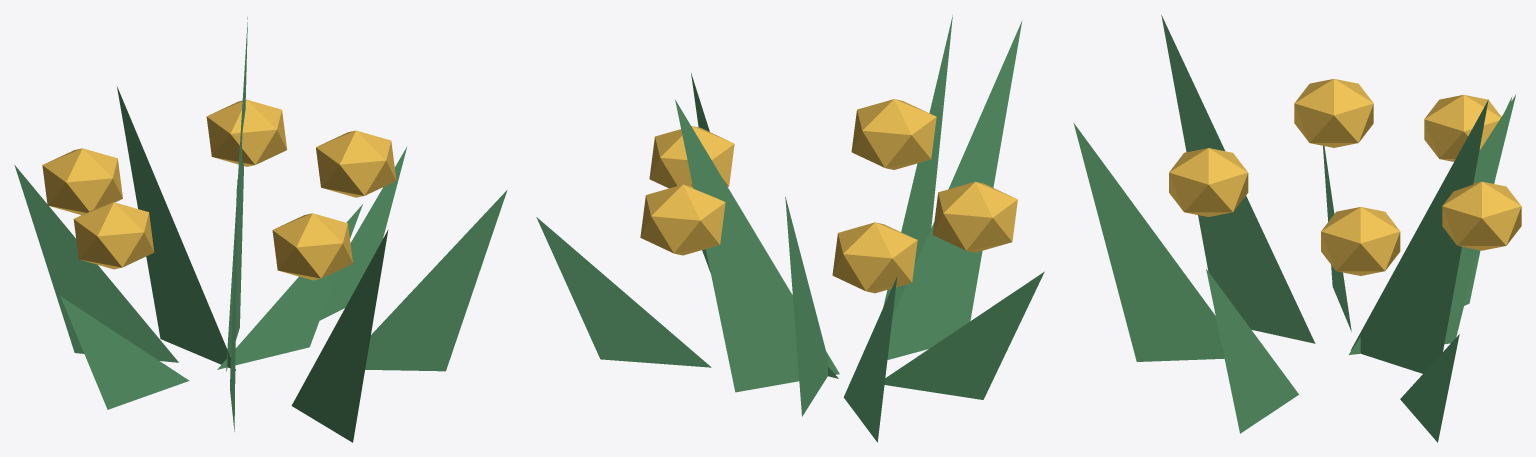
File: flowering_grass.glb
3 views of the same model, side by side, from view 1: azimuth 30°, elevation 25°; view 2: azimuth 150°, elevation 25°; view 3: azimuth 270°, elevation 25° (orthographic). The views are drawn at different scales.
Parts seen in each view (by area): view 1: Flowering Grass, Wildflower.004, Wildflower, Wildflower.002, Wildflower.001, Wildflower.003; view 2: Flowering Grass, Wildflower.004, Wildflower.002, Wildflower.001, Wildflower.003, Wildflower; view 3: Flowering Grass, Wildflower.002, Wildflower, Wildflower.004, Wildflower.003, Wildflower.001.
Boxes of the visible parts, <box> form: Flowering Grass: <box>14,17,507,442</box>; Wildflower.004: <box>73,202,154,269</box>; Wildflower: <box>316,130,396,197</box>; Wildflower.002: <box>272,213,352,280</box>; Wildflower.001: <box>42,148,122,214</box>; Wildflower.003: <box>206,99,287,166</box>; Flowering Grass: <box>536,15,1044,442</box>; Wildflower.004: <box>932,181,1017,252</box>; Wildflower.002: <box>851,99,936,169</box>; Wildflower.001: <box>832,222,917,293</box>; Wildflower.003: <box>640,184,725,255</box>; Wildflower: <box>649,126,734,188</box>; Flowering Grass: <box>1073,15,1515,442</box>; Wildflower.002: <box>1169,148,1248,216</box>; Wildflower: <box>1321,207,1400,275</box>; Wildflower.004: <box>1294,79,1373,147</box>; Wildflower.003: <box>1442,181,1521,250</box>; Wildflower.001: <box>1424,94,1501,161</box>.
Bounding box in the file's own units: 1.16 × 0.77 × 1.06.
